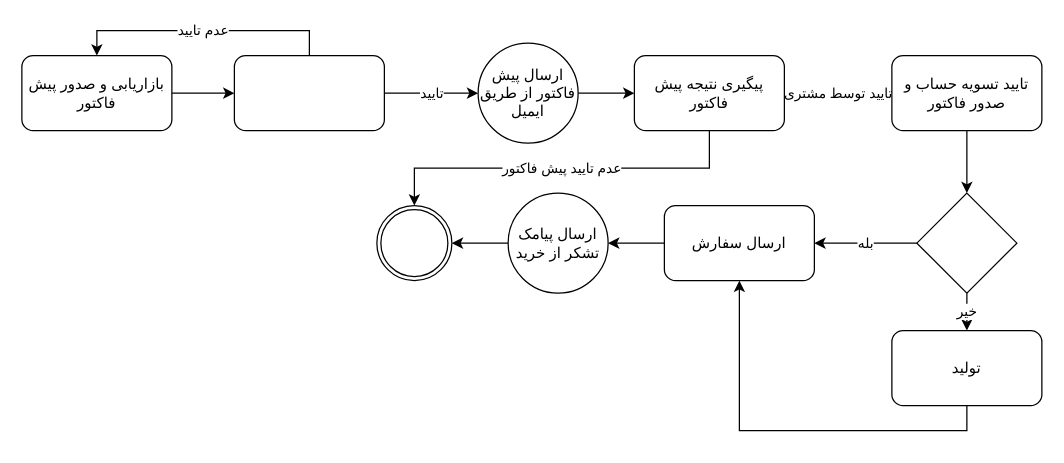
The diagram is 1064 pixels wide and 463 high, and some of its shapes have lost their labels. Here are the shapes that lost their labels. From the top down, the centre of each, then its label:
the point at 308,92: بررسی پیش فاکتور
the point at 414,242: پایان
the point at 966,242: آیا موجود می باشد؟
